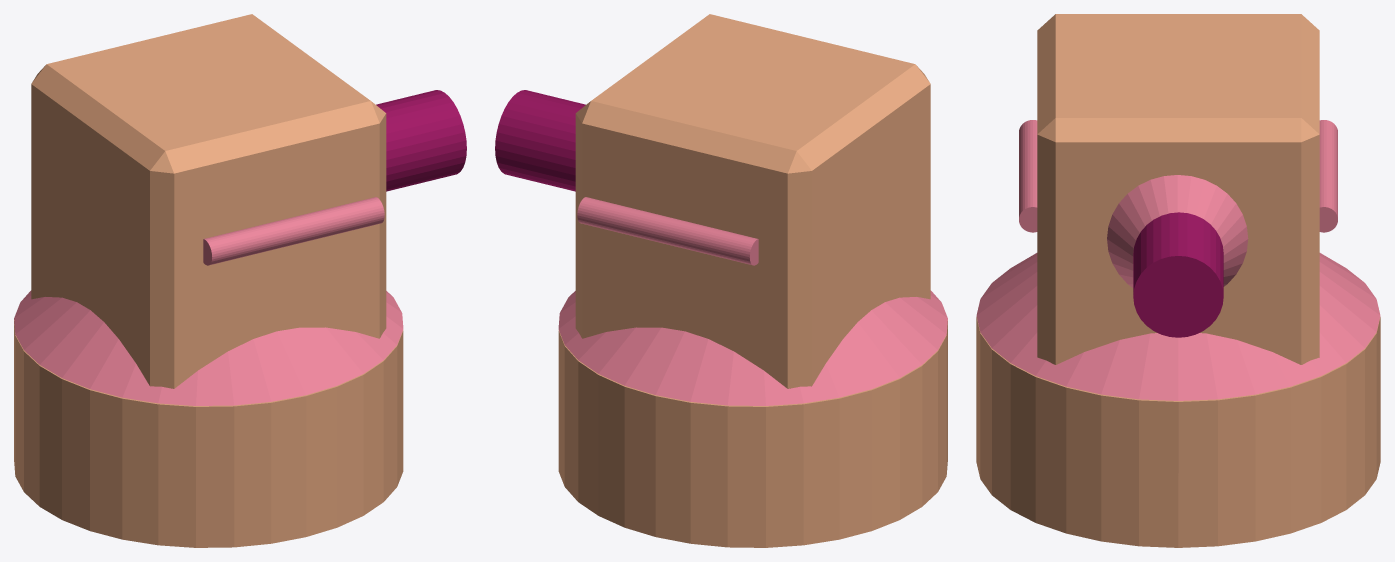
The model's file is Turm1 1.fbx.
3 views of the same model, side by side, from view 1: azimuth 30°, elevation 25°; view 2: azimuth 150°, elevation 25°; view 3: azimuth 270°, elevation 25° (orthographic). The views are drawn at different scales.
Visible parts, largest first — view 1: Cube, Cylinder, Cone, Canon2, Sidecanon1; view 2: Cube, Cylinder, Cone, Canon2, Sidecanon1.001; view 3: Cube, Cylinder, Cone, Canon2, Canoncone, Sidecanon1, Sidecanon1.001.
Part boxes in pixels (x1,y1,x2,y2): Cube: (31, 14, 386, 388); Cylinder: (14, 320, 403, 547); Cone: (14, 290, 403, 405); Canon2: (376, 90, 466, 191); Sidecanon1: (203, 197, 384, 265); Cube: (575, 14, 930, 388); Cylinder: (558, 320, 947, 547); Cone: (558, 290, 947, 405); Canon2: (495, 90, 585, 191); Sidecanon1.001: (577, 197, 758, 265); Cube: (1037, 14, 1319, 364); Cylinder: (976, 317, 1380, 547); Cone: (976, 253, 1380, 400); Canon2: (1133, 212, 1223, 337); Canoncone: (1107, 175, 1248, 287); Sidecanon1: (1019, 120, 1037, 232); Sidecanon1.001: (1319, 120, 1337, 232).
Bounding box in the file's own units: 343 × 310 × 286.
